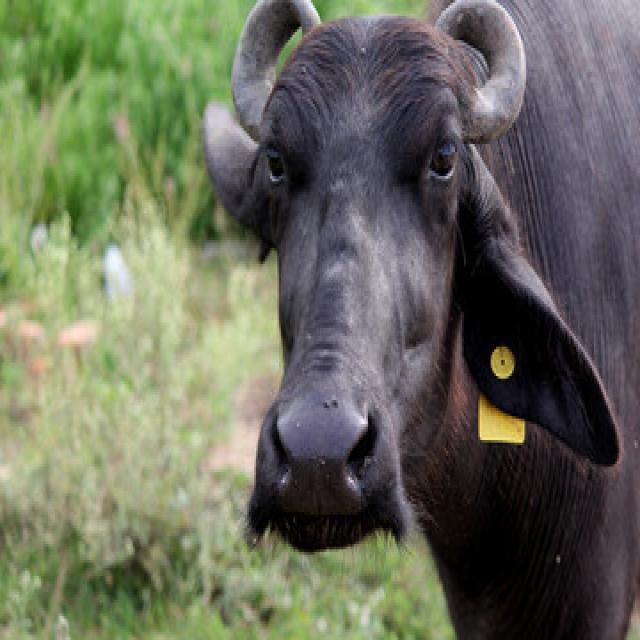Buffalo: (199, 0, 638, 637)
